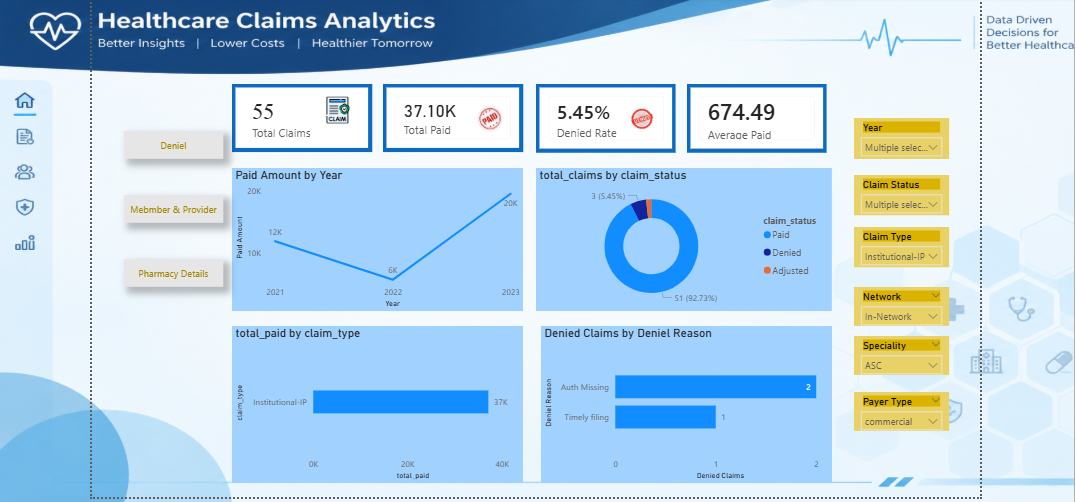

The page's visual inventory and layout, read from the dashboard file:
{"tool":"powerbi","page":{"name":"Executive Overview","canvas":[1280,720],"ordinal":0},"visuals":[{"type":"cardVisual","fields":{"Data":["claims.total_claims"]},"box":[201.6,125.3,201.6,97.9],"z":0},{"type":"cardVisual","fields":{"Data":["claims.total_paid"]},"box":[419,125.3,201.6,97.9],"z":1000},{"type":"cardVisual","fields":{"Data":["claims.Denied_rate"]},"box":[639.7,125,201.5,98.5],"z":2000},{"type":"cardVisual","fields":{"Data":["claims.avg_paid"]},"box":[857.4,125,201.5,98.5],"z":3000},{"type":"lineChart","fields":{"Y":["claims.total_paid"],"Category":["DimDate.Year"]},"box":[201.5,245.6,419.1,205.9],"z":4000},{"type":"donutChart","fields":{"Y":["claims.total_claims"],"Category":["claims.claim_status"]},"box":[639.4,246.2,426.2,205.9],"z":5000},{"type":"clusteredBarChart","fields":{"Category":["claims.claim_type"],"Y":["claims.total_paid"]},"box":[201.5,473.5,419.1,226.5],"z":6000},{"type":"clusteredBarChart","fields":{"Category":["claims.denial_reason"],"Y":["claims.Denied_claims"]},"box":[647.1,473.5,419.1,226.5],"z":7000},{"type":"slicer","fields":{"Values":["DimDate.Year"]},"box":[1097.3,174.2,136.8,59],"z":8000},{"type":"slicer","fields":{"Values":["claims.claim_status"]},"box":[1097.3,256.3,136.8,57.6],"z":9000},{"type":"slicer","fields":{"Values":["claims.claim_type"]},"box":[1097.3,331.2,136.8,57.6],"z":10000},{"type":"slicer","fields":{"Values":["claims.network_status"]},"box":[1097.3,417.6,136.8,56.2],"z":11000},{"type":"slicer","fields":{"Values":["claims.provider_specialty"]},"box":[1097.3,488.2,136.8,56.2],"z":12000},{"type":"slicer","fields":{"Values":["members.payer_type"]},"box":[1097.3,568.8,136.8,56.2],"z":13000},{"type":"actionButton","box":[46.1,193,142.6,40.3],"z":14000},{"type":"actionButton","box":[46.1,285.1,142.6,40.3],"z":15000},{"type":"actionButton","box":[46.1,377.3,142.6,40.3],"z":16000}]}

Visuals, with their boxes on the page's 1280x720 design canvas (x1, y1, x2, y2). These are canvas units, not pixel positions in the 1076x502 screenshot, which may show the page scaled, cropped or inside an application window:
cardVisual - claims.total_claims: left=202, top=125, right=403, bottom=223
cardVisual - claims.total_paid: left=419, top=125, right=621, bottom=223
cardVisual - claims.Denied_rate: left=640, top=125, right=841, bottom=224
cardVisual - claims.avg_paid: left=857, top=125, right=1059, bottom=224
lineChart - claims.total_paid x DimDate.Year: left=202, top=246, right=621, bottom=452
donutChart - claims.total_claims x claims.claim_status: left=639, top=246, right=1066, bottom=452
clusteredBarChart - claims.claim_type x claims.total_paid: left=202, top=474, right=621, bottom=700
clusteredBarChart - claims.denial_reason x claims.Denied_claims: left=647, top=474, right=1066, bottom=700
slicer - DimDate.Year: left=1097, top=174, right=1234, bottom=233
slicer - claims.claim_status: left=1097, top=256, right=1234, bottom=314
slicer - claims.claim_type: left=1097, top=331, right=1234, bottom=389
slicer - claims.network_status: left=1097, top=418, right=1234, bottom=474
slicer - claims.provider_specialty: left=1097, top=488, right=1234, bottom=544
slicer - members.payer_type: left=1097, top=569, right=1234, bottom=625
actionButton: left=46, top=193, right=189, bottom=233
actionButton: left=46, top=285, right=189, bottom=325
actionButton: left=46, top=377, right=189, bottom=418
